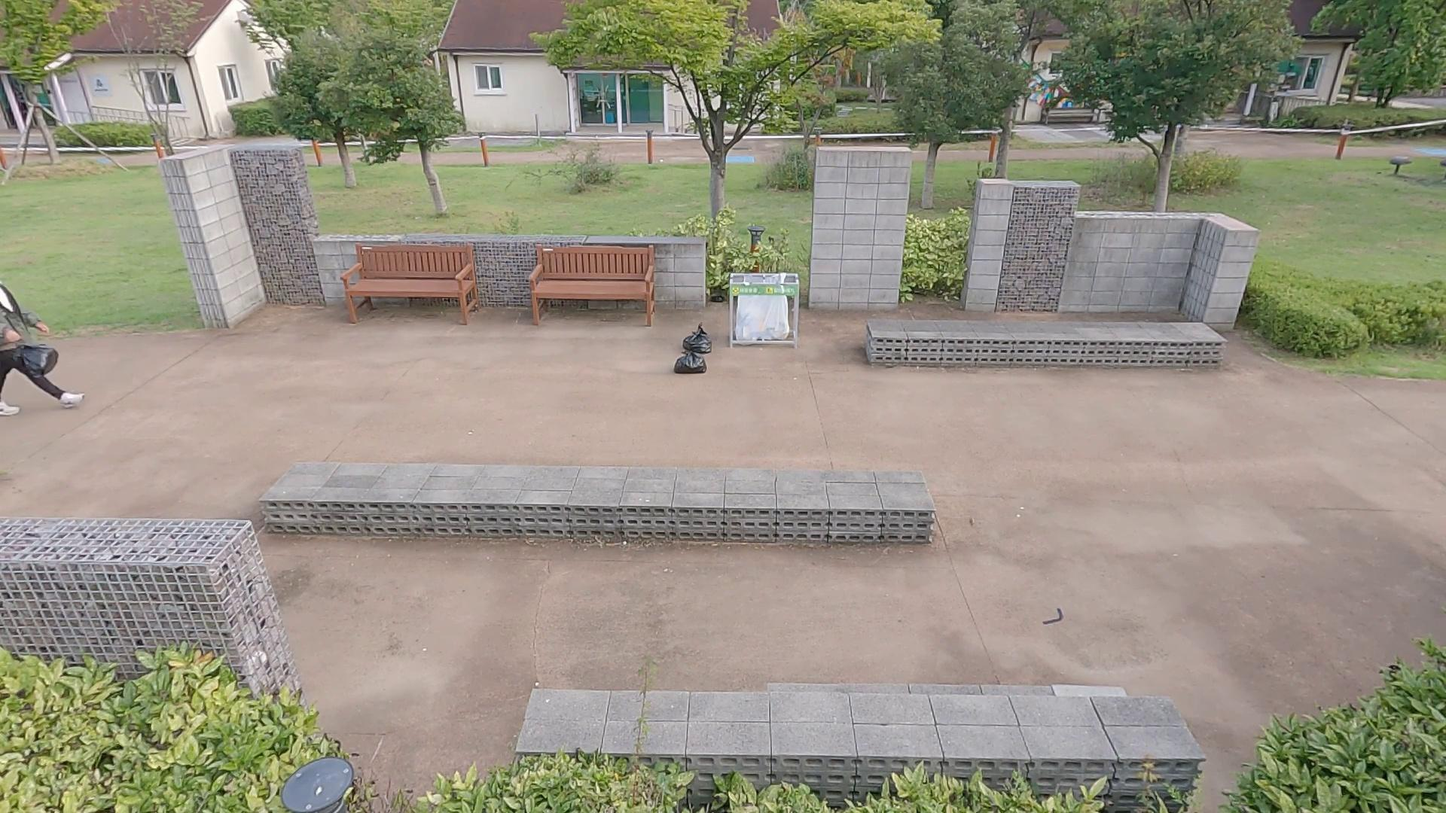person: (0, 270, 88, 422)
trash: (11, 337, 63, 377), (680, 323, 713, 358), (676, 348, 707, 376)
